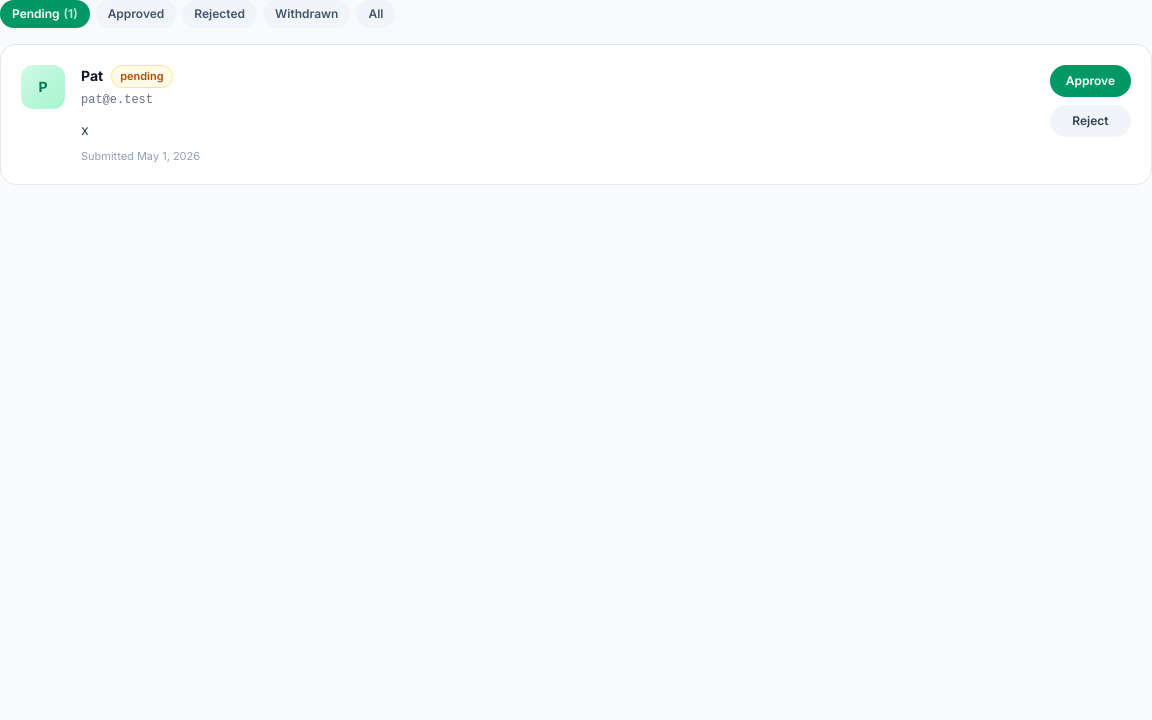
Test: AdminRequestsList › opens reject modal with required note when Reject clicked
The width and height of the screenshot is (1152, 720).
Click the button "Reject": (1090, 121) [1050,105,1131,137]
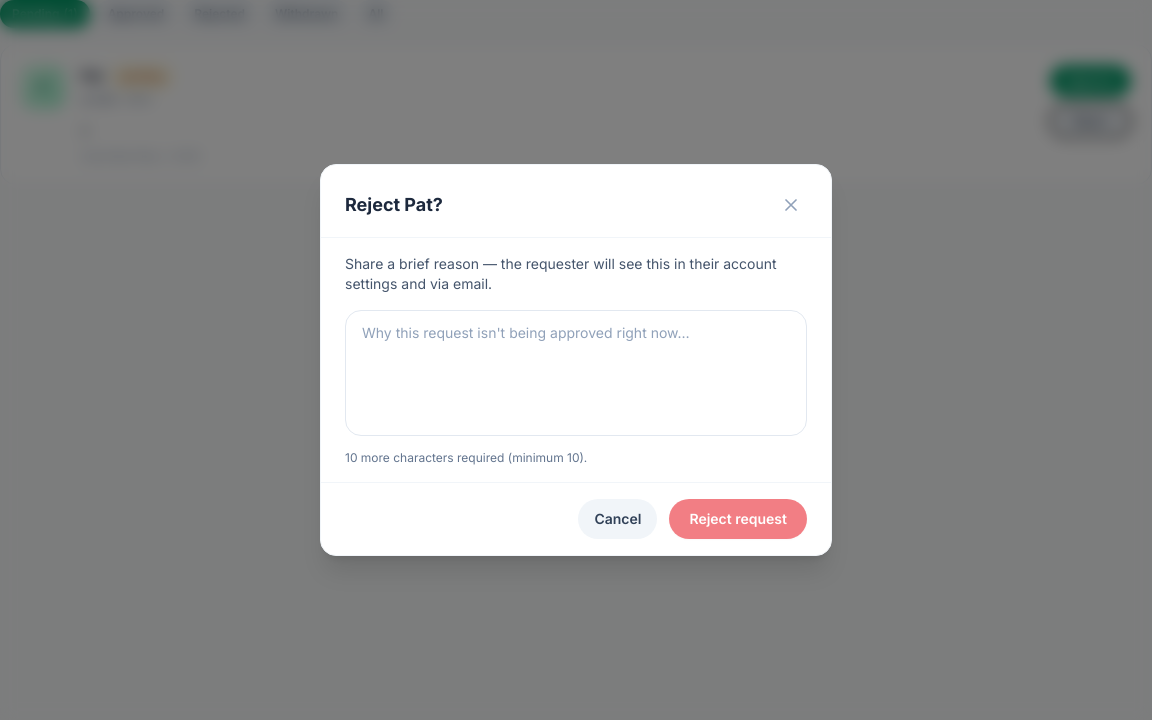
Result: the heading "Reject Pat?" is shown at [345,191,443,219]
Result: the text "Share a brief reason" is shown at [345,255,777,292]
